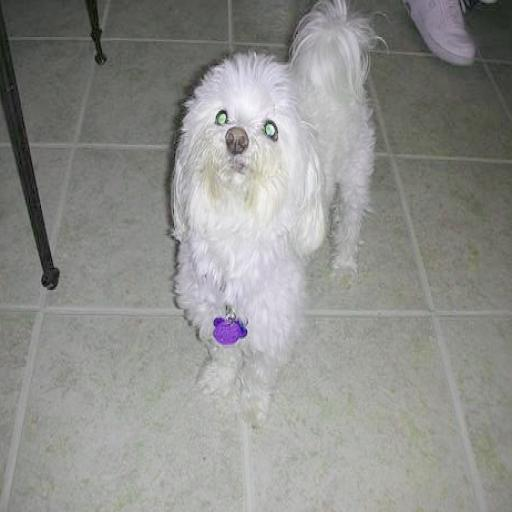dog_face: (172, 62, 319, 255)
